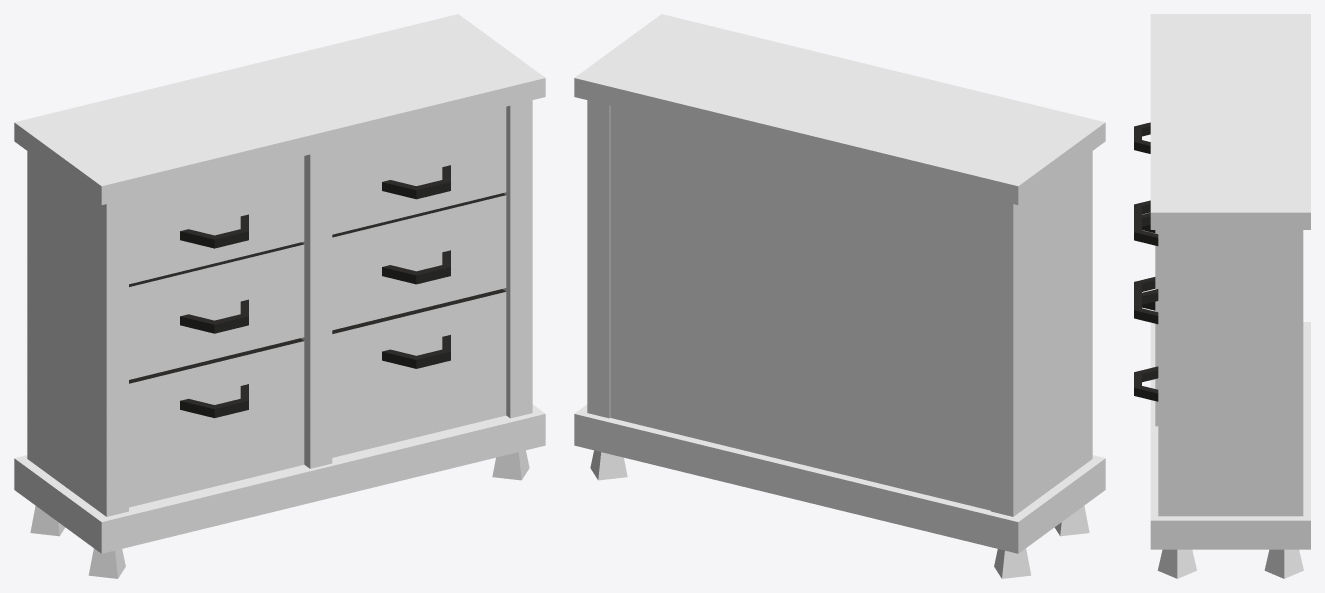
File: Drawer_1A.fbx
3 views of the same model, side by side, from view 1: azimuth 30°, elevation 25°; view 2: azimuth 150°, elevation 25°; view 3: azimuth 270°, elevation 25° (orthographic). The views are drawn at different scales.
Parts seen in each view (by area): view 1: polySurface1501; view 2: polySurface1501; view 3: polySurface1501.
Boxes of the visible parts, left/top/right/bottom form: polySurface1501: left=14, top=14, right=545, bottom=578; polySurface1501: left=574, top=14, right=1105, bottom=578; polySurface1501: left=1134, top=14, right=1310, bottom=578.
Bounding box in the file's own units: 2.2 × 1.9 × 0.8282.
1 material, 1 textured.
